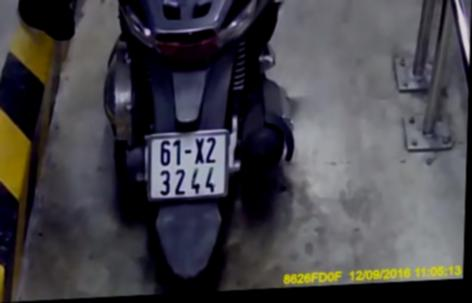License_Plate: (137, 123, 239, 210)
